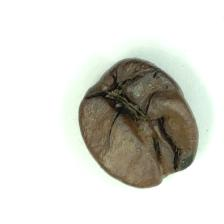NG: (102, 66, 189, 175)
